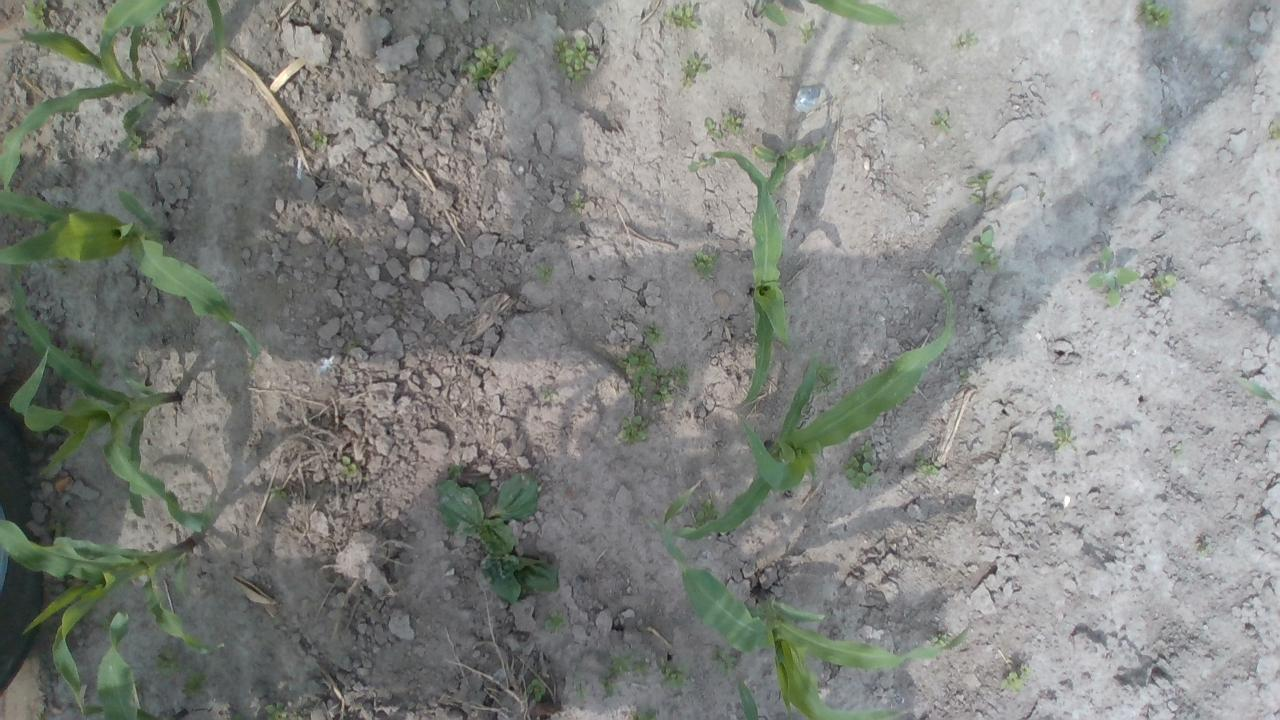Maize: (640, 270, 956, 546), (658, 479, 969, 720), (0, 263, 211, 536), (0, 185, 260, 362), (0, 516, 217, 712), (0, 0, 171, 194), (709, 148, 792, 404), (96, 607, 176, 720), (752, 0, 905, 29), (753, 138, 828, 195), (195, 0, 224, 72), (735, 677, 771, 720), (1234, 376, 1280, 406)
Weeds: (434, 463, 558, 601), (614, 344, 687, 404), (1087, 246, 1140, 306), (460, 42, 518, 86), (553, 33, 599, 83), (841, 440, 881, 492), (140, 10, 176, 47), (704, 110, 744, 142), (178, 663, 210, 700), (970, 226, 996, 270), (607, 648, 649, 674), (616, 414, 650, 446), (64, 333, 90, 370), (1000, 663, 1033, 692), (666, 4, 701, 31), (690, 250, 720, 281), (154, 639, 178, 677), (813, 361, 839, 395), (690, 498, 719, 526), (22, 0, 49, 30), (709, 646, 737, 674), (660, 662, 689, 688), (1142, 0, 1168, 29), (684, 48, 708, 78), (912, 450, 938, 477), (964, 169, 994, 188), (526, 677, 548, 702), (544, 611, 570, 632), (642, 323, 664, 347), (167, 49, 189, 72), (122, 129, 144, 151), (1053, 424, 1074, 447), (1147, 128, 1167, 152), (90, 356, 108, 382), (266, 700, 288, 720), (930, 108, 950, 130), (1156, 272, 1177, 291), (536, 260, 552, 284), (341, 455, 357, 478), (801, 22, 818, 43), (311, 129, 327, 151), (269, 485, 289, 502), (686, 160, 713, 172), (570, 190, 584, 212), (194, 87, 210, 106), (928, 632, 948, 647), (600, 678, 615, 697), (968, 192, 985, 207), (1267, 121, 1280, 140), (962, 32, 977, 48), (102, 615, 112, 635), (638, 711, 658, 720), (574, 686, 586, 700), (1198, 546, 1208, 560), (1053, 405, 1064, 417), (542, 387, 552, 398), (271, 616, 281, 625), (232, 711, 240, 720)
